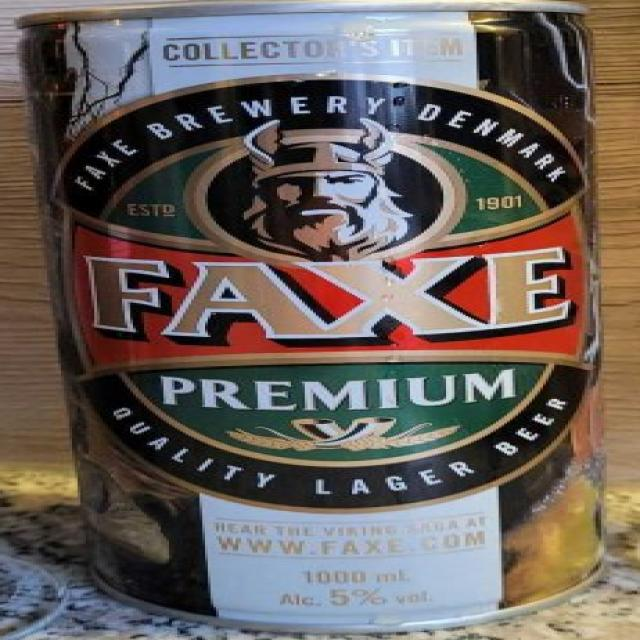FAXE Premium: (3, 0, 640, 640)
